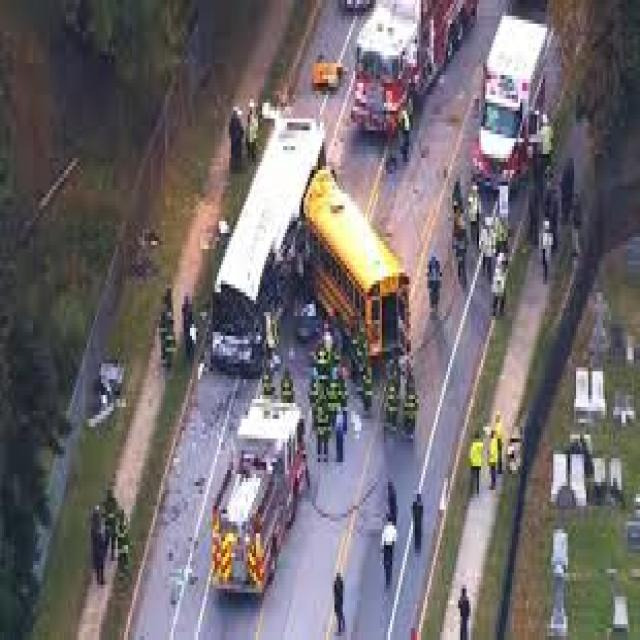accident: (202, 90, 424, 406)
